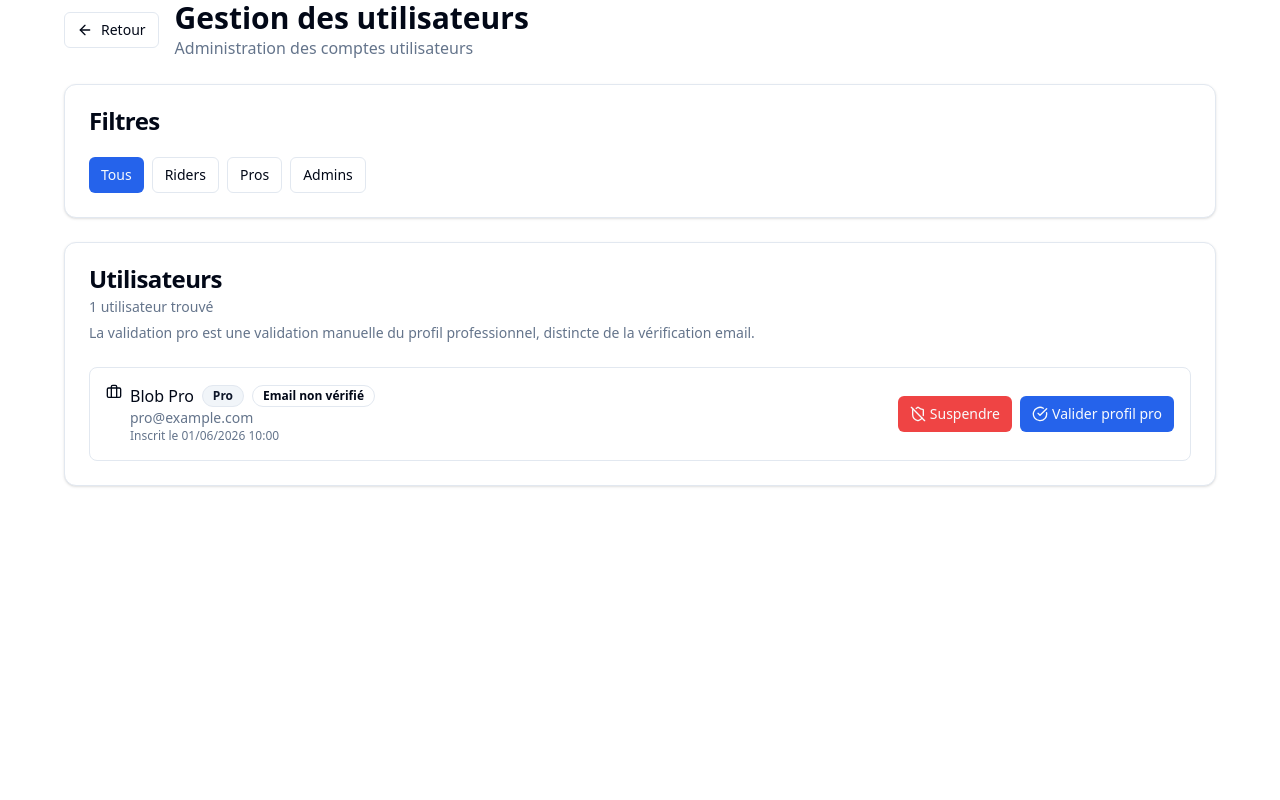
Test: AdminUsers › affiche un cooldown humain sur 429 et désactive le renvoi
Click the button "Valider profil pro": (1097, 414) [1020,396,1174,432]
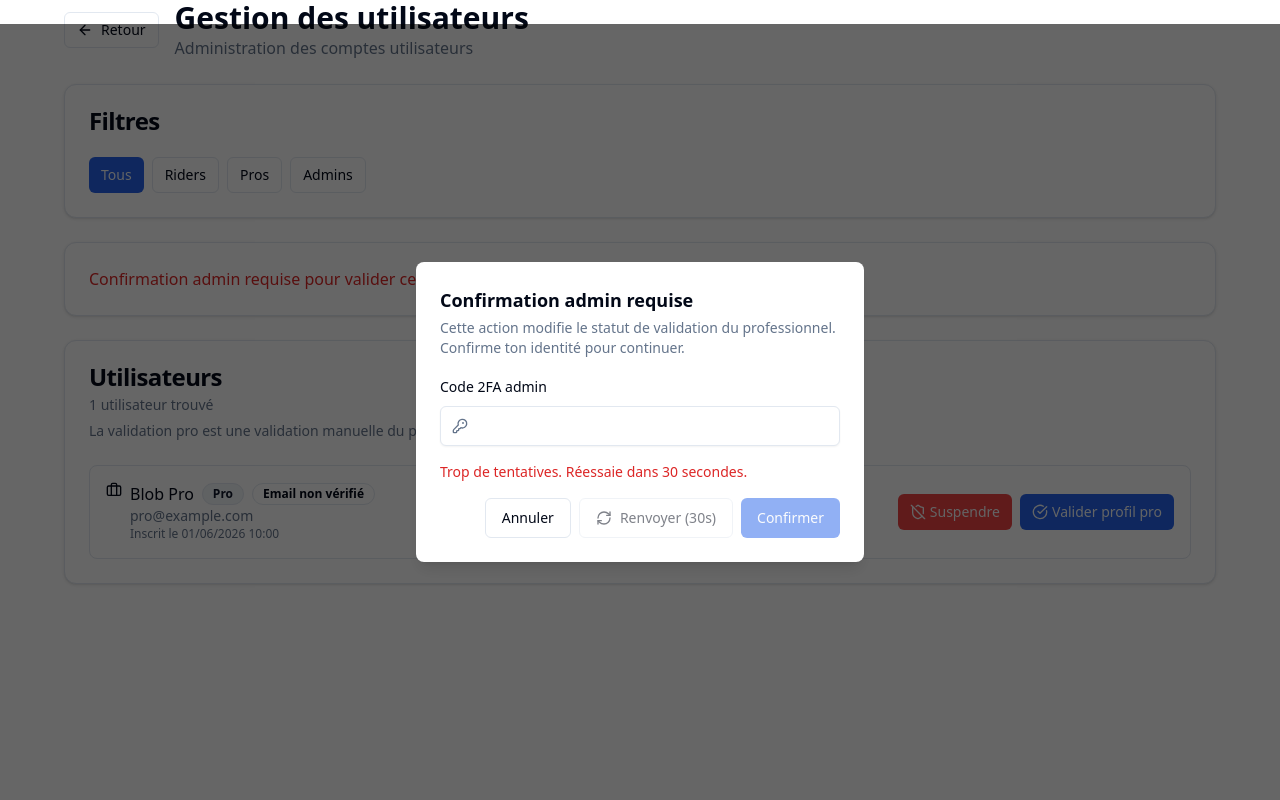
Now the text "Trop de tentatives. Réessaie dans 30 secondes." is shown, box [440,462,747,481]
Now the button "Renvoyer (30s)" is disabled, box [579,498,733,538]
